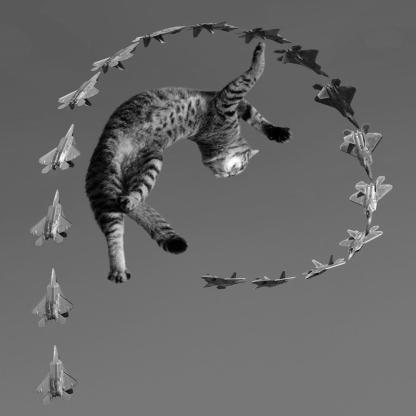F22: (35, 345, 79, 406), (31, 268, 75, 329), (339, 124, 384, 182), (30, 190, 74, 248), (313, 80, 361, 131), (38, 124, 83, 175), (350, 177, 395, 228), (273, 45, 331, 79), (57, 72, 103, 112), (340, 225, 385, 262), (91, 43, 141, 76), (132, 26, 188, 49), (303, 255, 348, 281), (236, 28, 294, 46), (185, 21, 240, 39), (252, 271, 299, 292), (201, 272, 249, 291)
